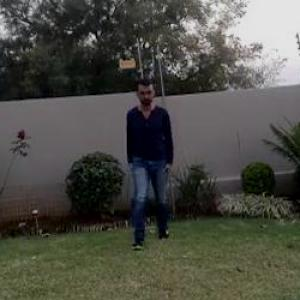follow: (112, 70, 172, 258)
